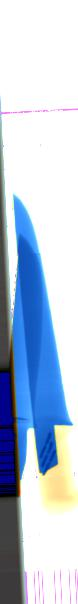Knife: (11, 195, 75, 511), (13, 236, 43, 478)
